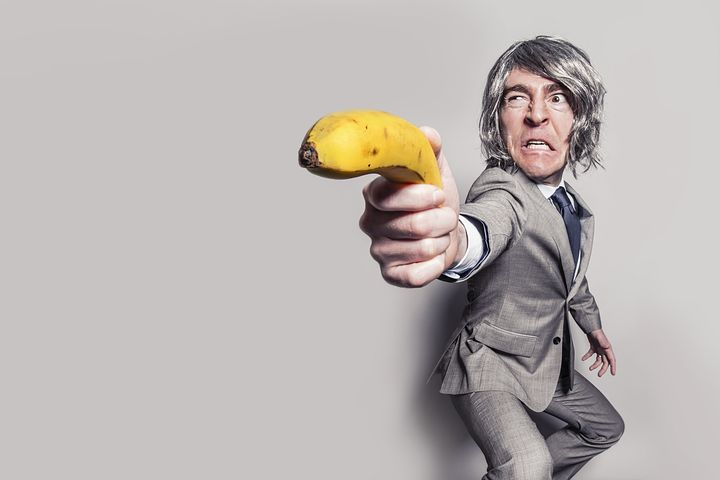banana: (298, 105, 447, 212)
